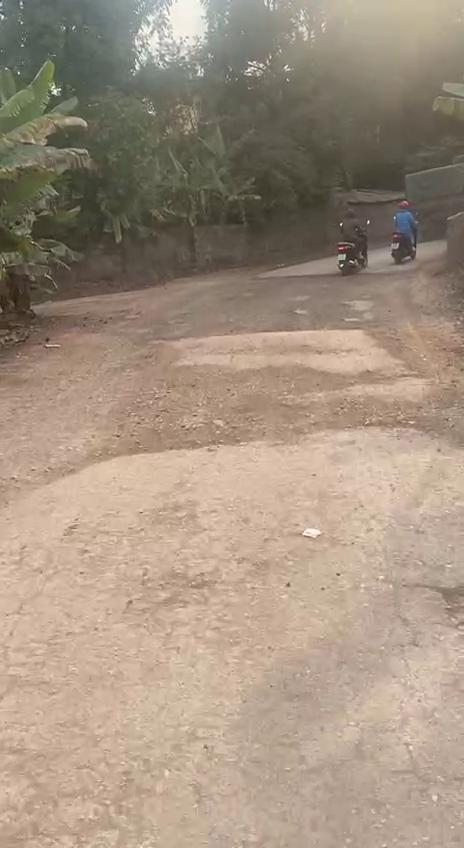pothole: (79, 354, 366, 470), (70, 504, 216, 622), (435, 582, 464, 636)
